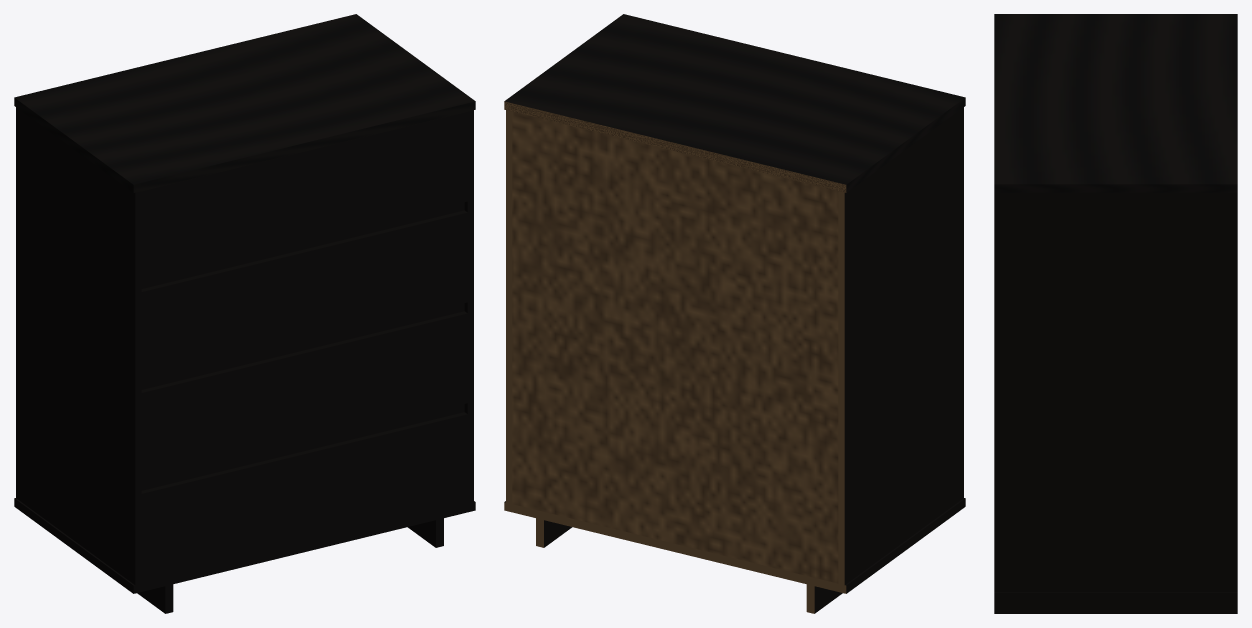
The model's file is dresser.glb.
3 renders of one model, left to right at view 1: azimuth 30°, elevation 25°; view 2: azimuth 150°, elevation 25°; view 3: azimuth 270°, elevation 25°, orthographic.
Visible parts, largest first — view 1: Cube; view 2: Cube; view 3: Cube.
Part boxes in pixels (x1,y1,x2,y2): Cube: (14, 14, 475, 613); Cube: (504, 14, 965, 613); Cube: (994, 14, 1237, 613).
Bounding box in the file's own units: 0.8179 × 0.998 × 0.494.
2 materials, 2 textured.
